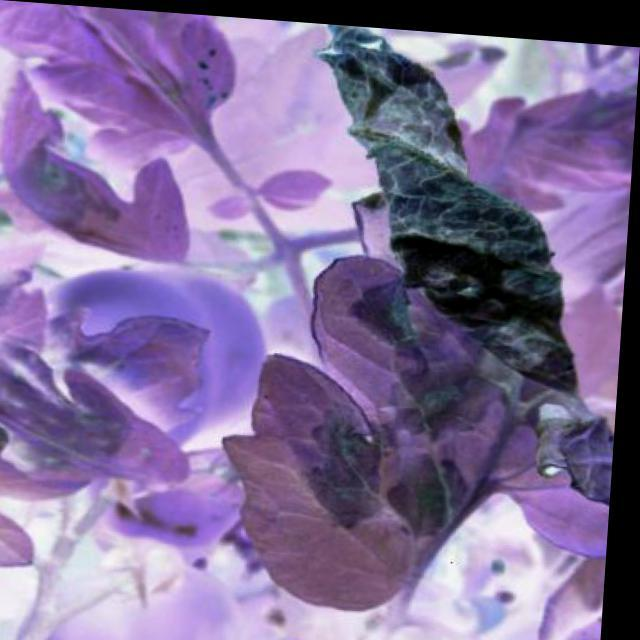Tomato mosaic virus leaf: (294, 238, 526, 540), (224, 333, 439, 633), (0, 85, 258, 287), (0, 318, 202, 496)
